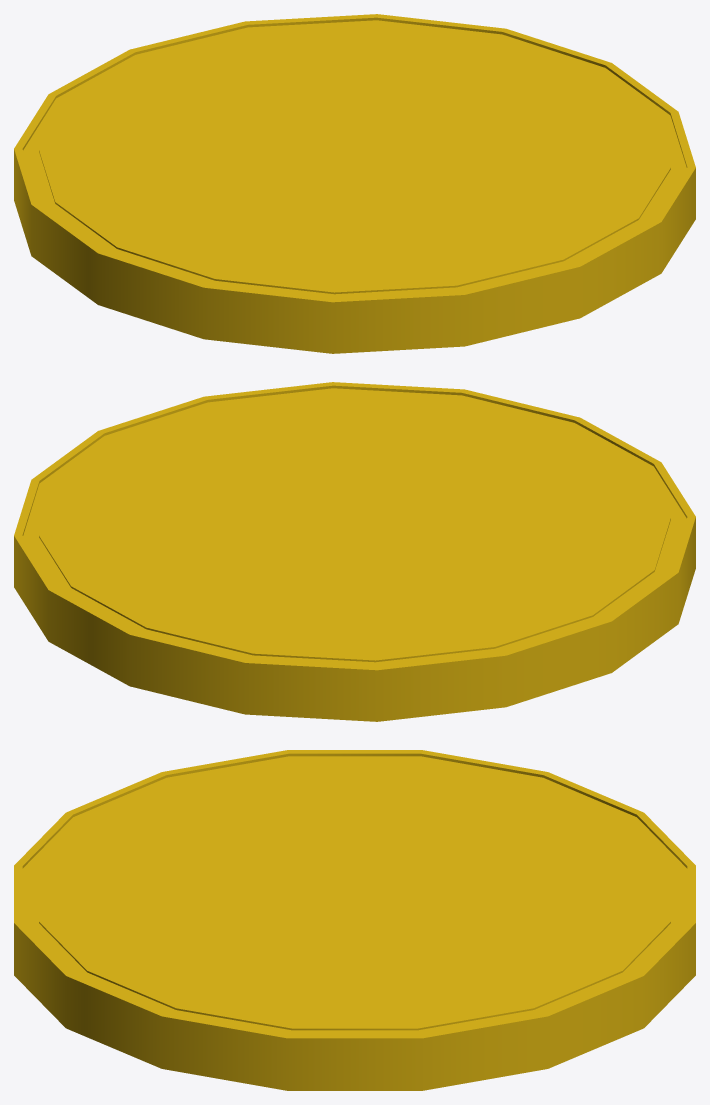
The model's file is coin.glb.
3 views of the same model, one above another, from view 1: azimuth 30°, elevation 25°; view 2: azimuth 150°, elevation 25°; view 3: azimuth 270°, elevation 25° (orthographic).
Parts seen in each view (by area): view 1: coin; view 2: coin; view 3: coin.
Part boxes in pixels (<box>): coin: <box>14,14,695,353</box>; coin: <box>14,382,695,721</box>; coin: <box>14,750,695,1090</box>.
Size of the model in its own units: 0.0588 by 0.005 by 0.0588.
